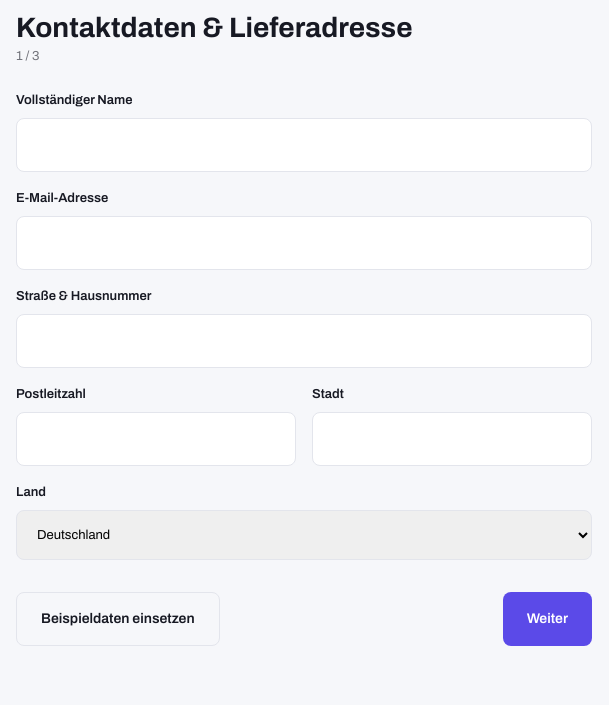
Scenario: Checkout › blocks advancing past step 1 with an empty form and shows validation errors
Click the button "Weiter". click: x=547, y=619
box: [503, 592, 592, 646]
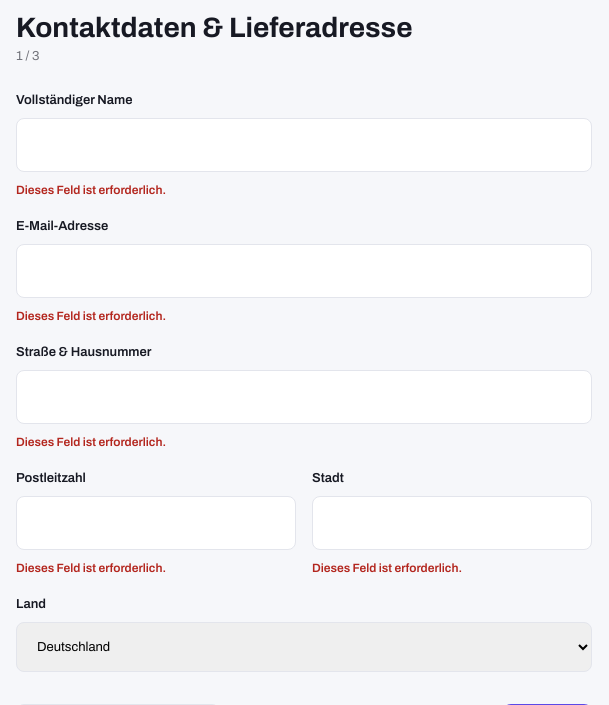
Expected: the text with class "step-indicator" reads "1 / 3", [16, 49, 40, 63]
Result: the text with class "error" below "Vollständiger Name" is shown at [16, 183, 166, 197]
